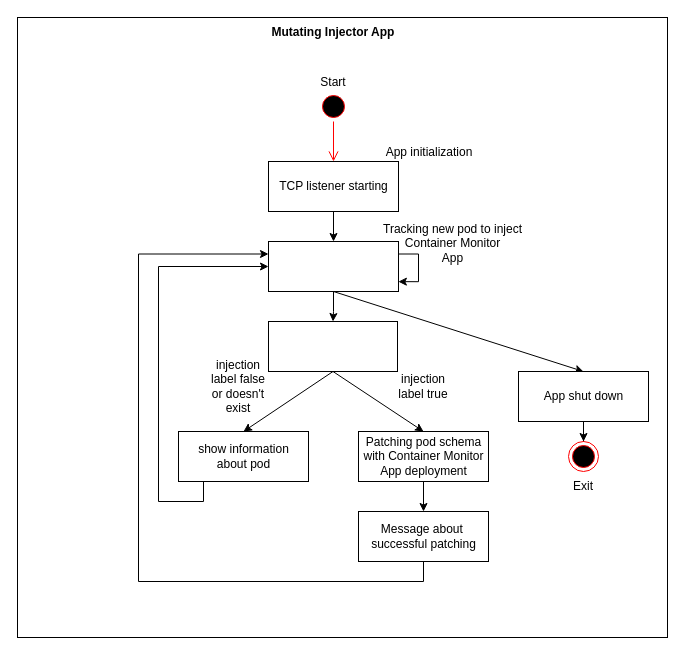
This 685x655 diagram has some shape labels left out. The shapes that lost their labels are listed below. From the top down, each one's box as (x1, y1, x2, y2) in pixels, then its label:
(268, 240, 398, 292): Waiting for a new pod in cluster
(268, 320, 398, 372): Validating pod schema for containing injection label
